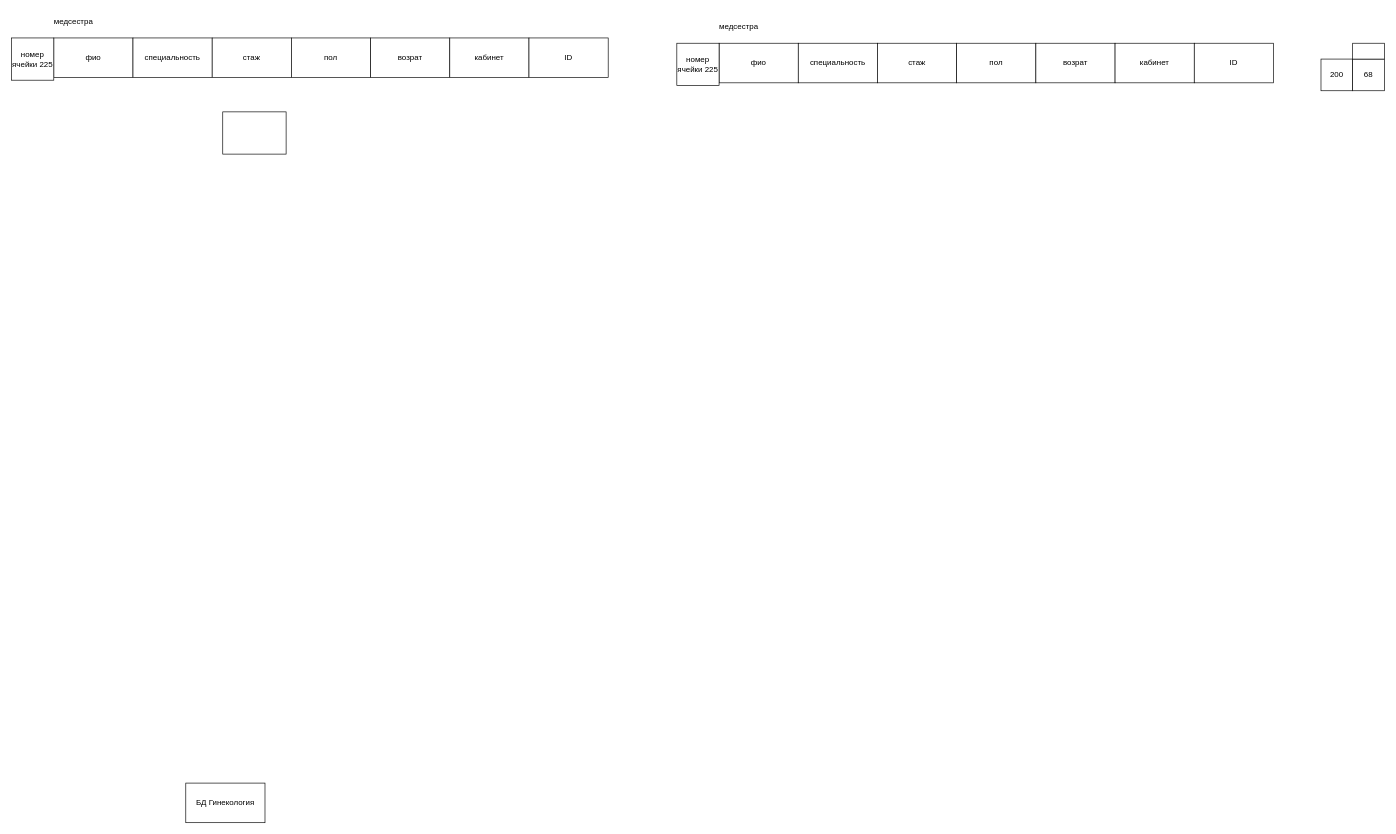
Some shapes in this 1396 by 834 pixel diagram are drawn without their labels. The centre of each missing label's shape, as x and y in pixels:
"ключ номер" goes at [1368,51].
"ключевое поле 68" goes at [254,132].
